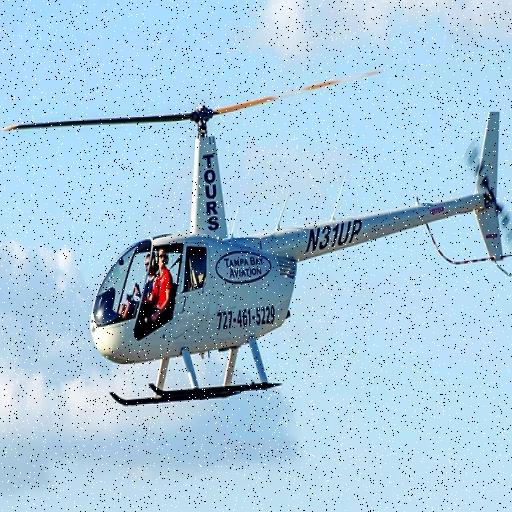helicopter: (1, 64, 512, 408)
